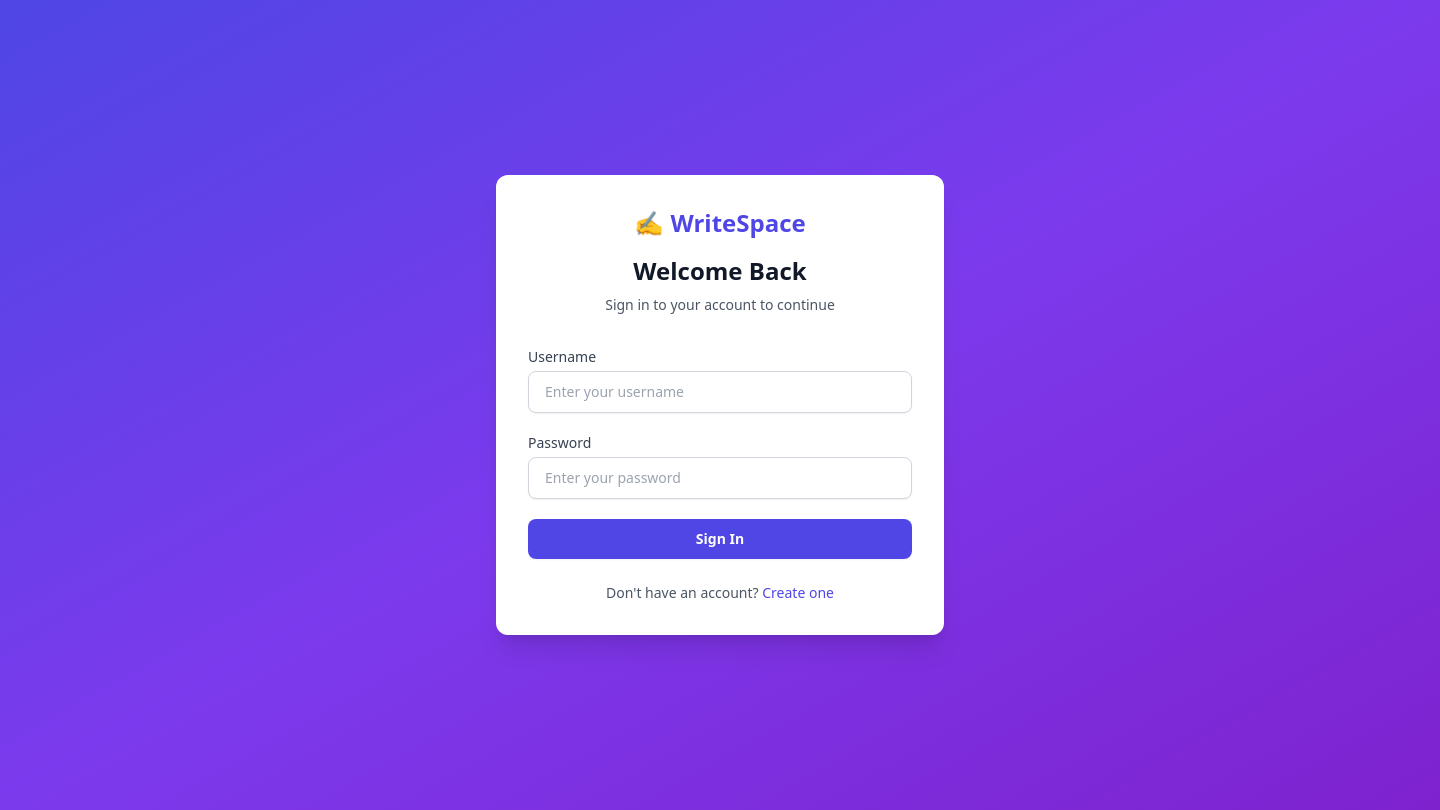
Test case: LoginPage › Failed login › displays fallback error message when no error string is provided
Type "someuser" into the field labelled "Username".
click(720, 392); type("someuser")  # box [528,371,912,413]
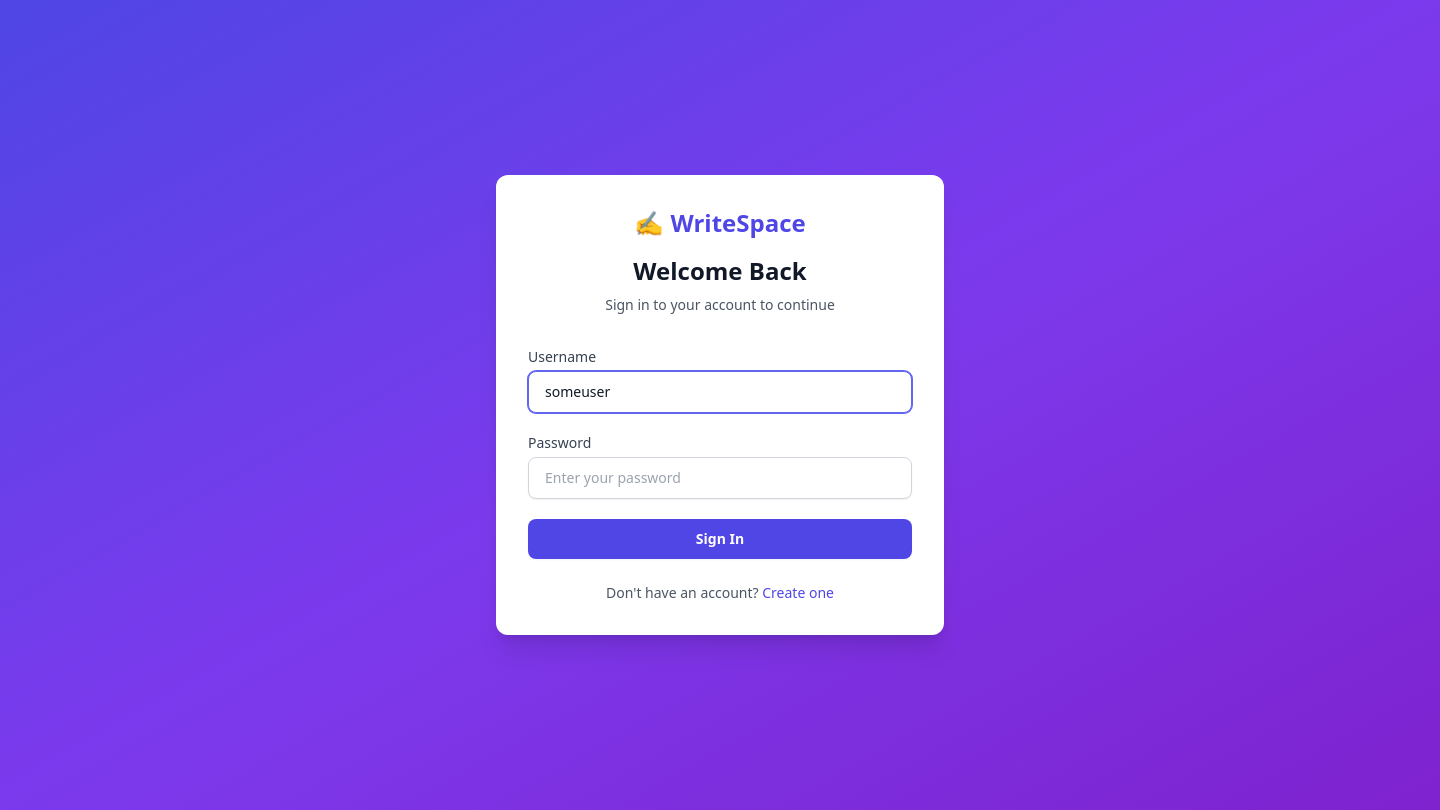
Type "somepass" into the password field labelled "Password".
click(720, 478); type("somepass")  # box [528,457,912,499]
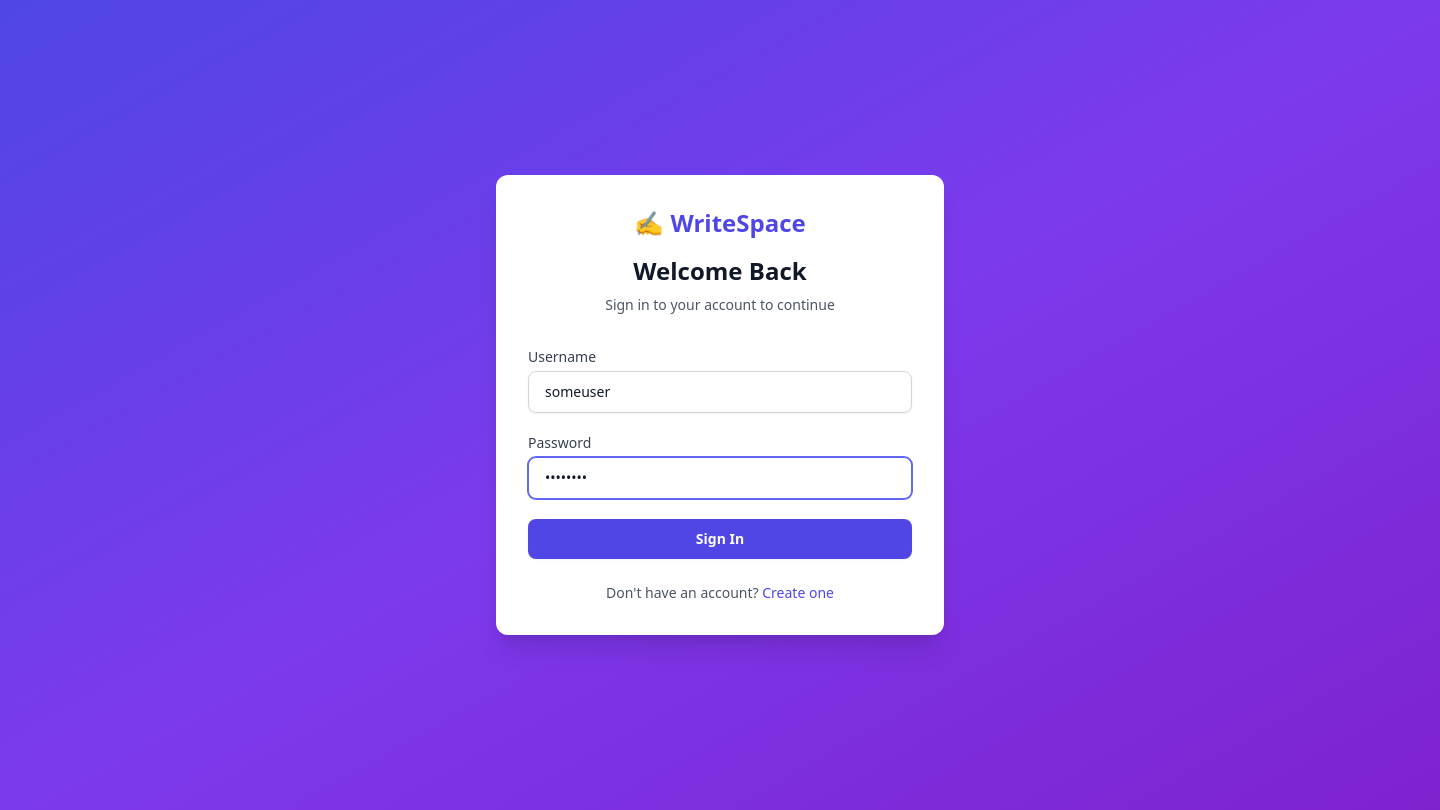
Click the button "Sign In".
click(720, 539)  # box [528,519,912,559]
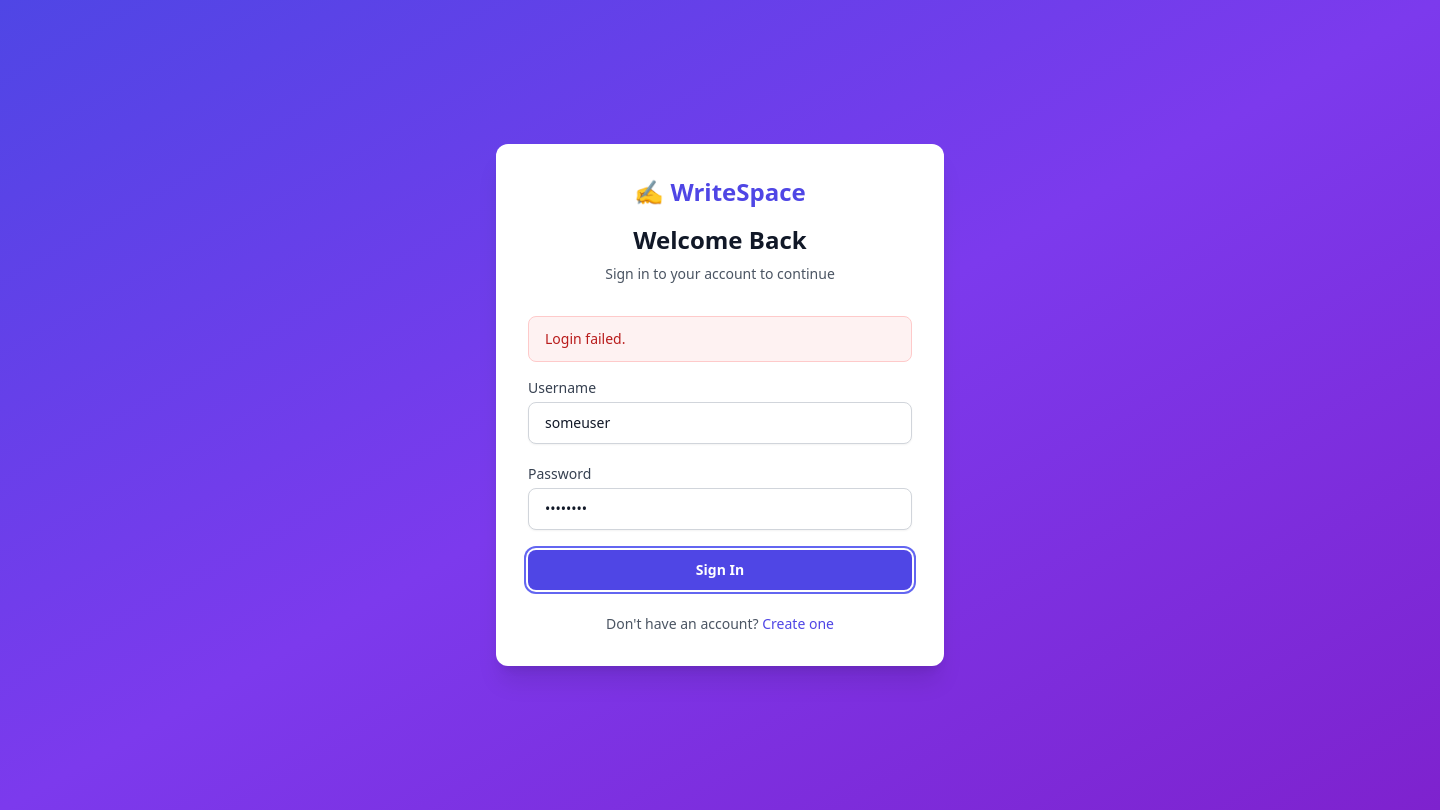
Result: the text "Login failed." is shown at [528,316,912,362]
